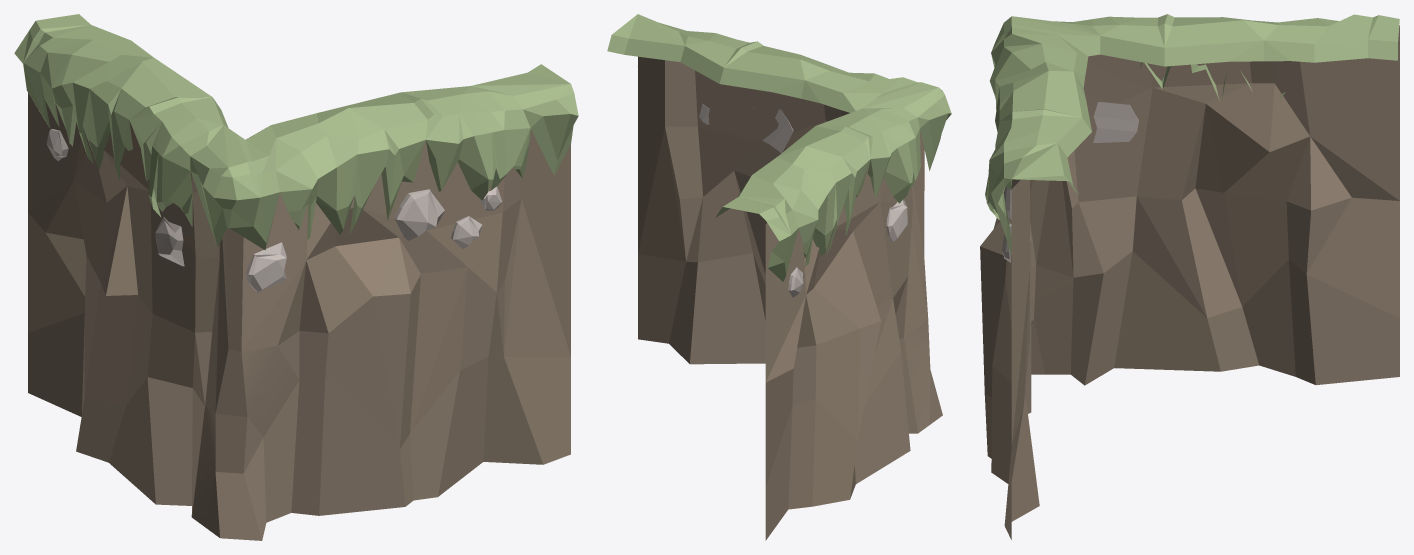
Rendered from ER_Terrain_1x1_GrassCorner_001_B1.fbx.
3 views of the same model, side by side, from view 1: azimuth 30°, elevation 25°; view 2: azimuth 150°, elevation 25°; view 3: azimuth 270°, elevation 25° (orthographic). The views are drawn at different scales.
Visible parts, largest first — view 1: ER_Terrain_1x1_GrassCorner_001_B1; view 2: ER_Terrain_1x1_GrassCorner_001_B1; view 3: ER_Terrain_1x1_GrassCorner_001_B1.
Part boxes in pixels (x1=…): ER_Terrain_1x1_GrassCorner_001_B1: x1=14, y1=14, x2=578, y2=540; ER_Terrain_1x1_GrassCorner_001_B1: x1=607, y1=14, x2=951, y2=540; ER_Terrain_1x1_GrassCorner_001_B1: x1=980, y1=14, x2=1399, y2=539.
Size of the model in its own units: 1.08 by 1.06 by 1.08.
